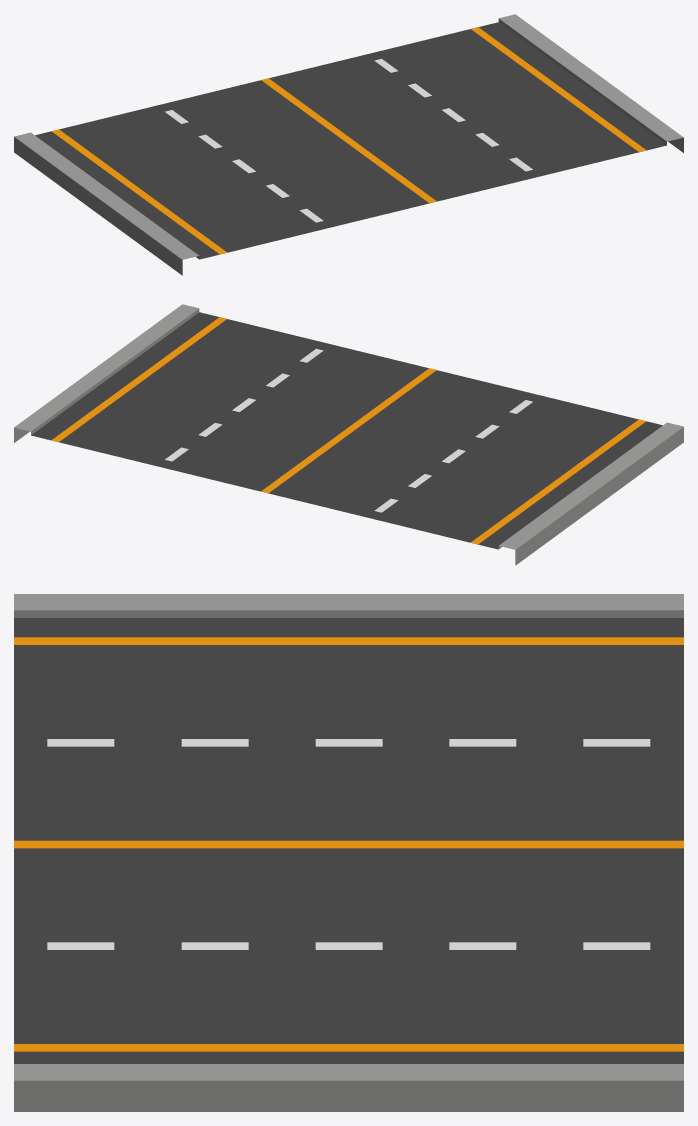
Rendered from Road_A_2L_2_1.fbx.
3 views of the same model, one above another, from view 1: azimuth 30°, elevation 25°; view 2: azimuth 150°, elevation 25°; view 3: azimuth 270°, elevation 25° (orthographic). The views are drawn at different scales.
Visible parts, largest first — view 1: Road_A_2L_2_1; view 2: Road_A_2L_2_1; view 3: Road_A_2L_2_1.
Boxes of the visible parts, x1,y1,x2,y2 form: Road_A_2L_2_1: (14,14,683,275); Road_A_2L_2_1: (14,304,683,565); Road_A_2L_2_1: (14,594,683,1111).
Bounding box in the file's own units: 1375 × 41.48 × 800.
